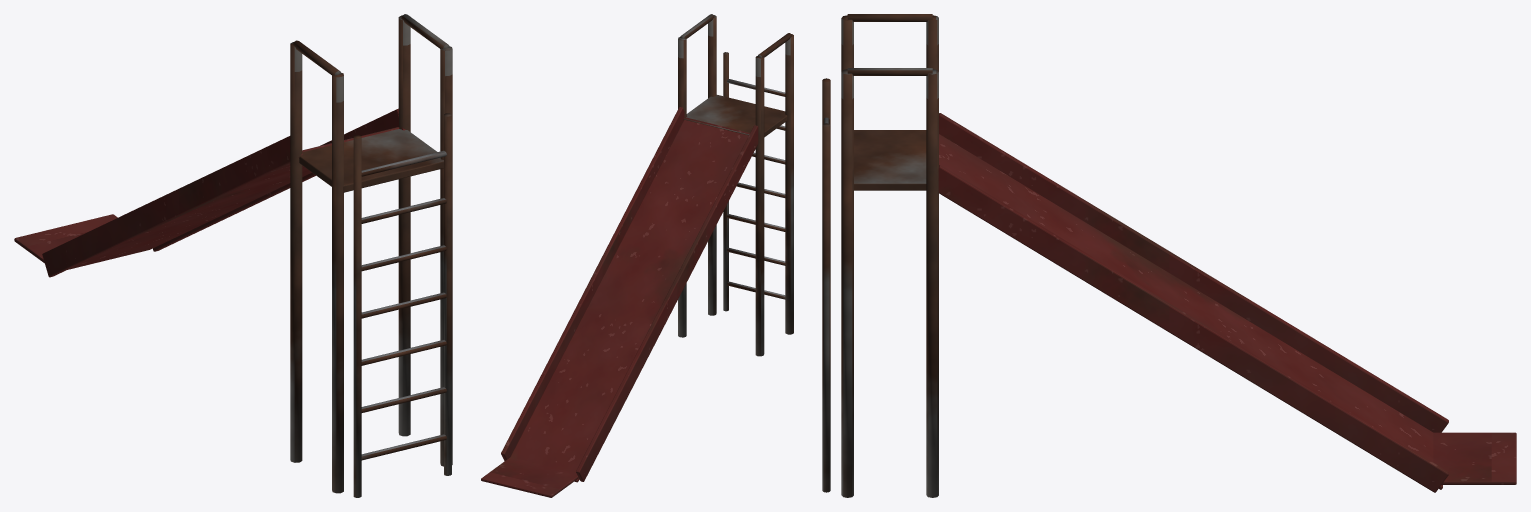
The model's file is S06_playground_slide.glb.
3 renders of one model, left to right at view 1: azimuth 30°, elevation 25°; view 2: azimuth 150°, elevation 25°; view 3: azimuth 270°, elevation 25°, orthographic. The views are drawn at different scales.
Parts seen in each view (by area): view 1: S06_playground_slide; view 2: S06_playground_slide; view 3: S06_playground_slide.
Boxes of the visible parts, left/top/right/bottom form: S06_playground_slide: left=14, top=14, right=452, bottom=497; S06_playground_slide: left=481, top=14, right=793, bottom=497; S06_playground_slide: left=822, top=14, right=1516, bottom=497.
Bounding box in the file's own units: 0.6055 × 2.04 × 3.
Materials: 3 (3 with a texture image).
